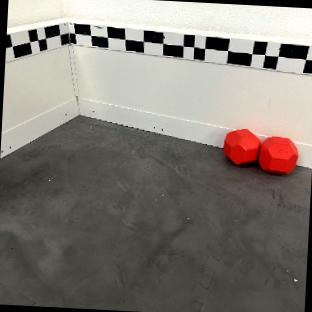V5_RED: (220, 127, 299, 176)
